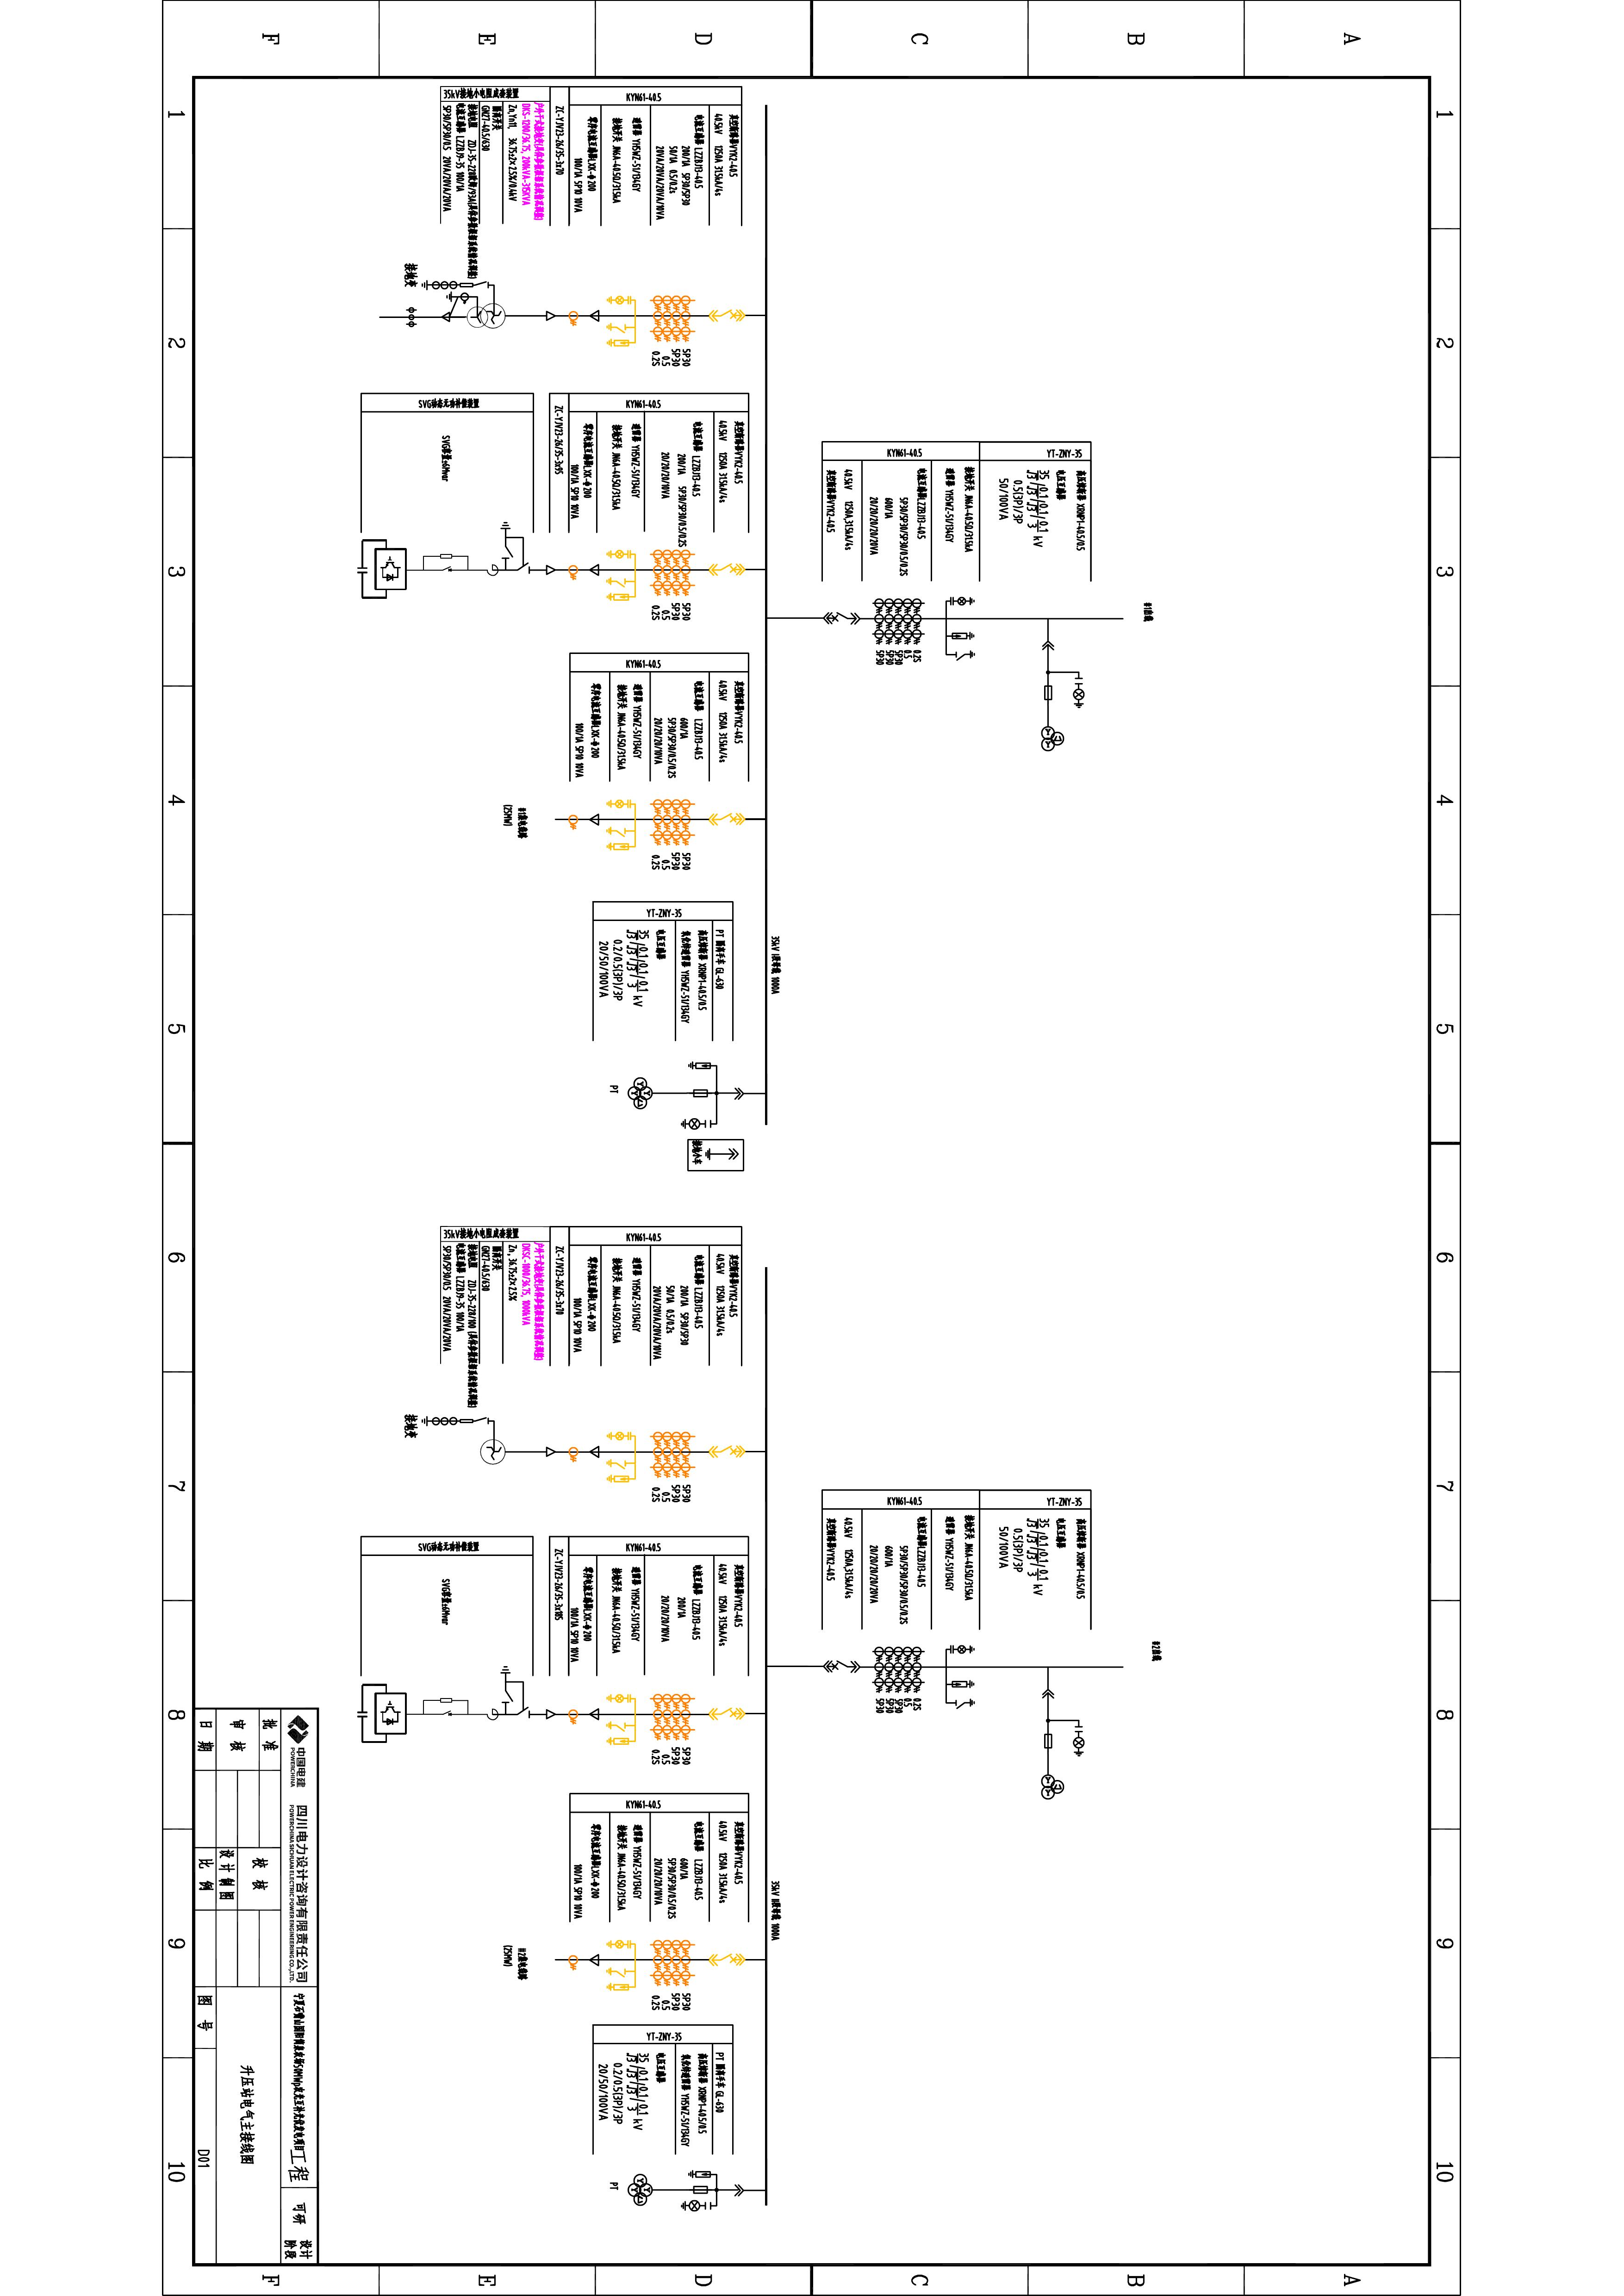diagram-EKfo: (812, 1628, 1023, 1744), (808, 576, 1021, 689), (557, 1397, 749, 1520), (564, 789, 763, 891), (566, 1678, 752, 1778), (557, 531, 743, 627), (557, 1920, 758, 2006), (575, 274, 731, 376), (617, 2150, 759, 2229)
